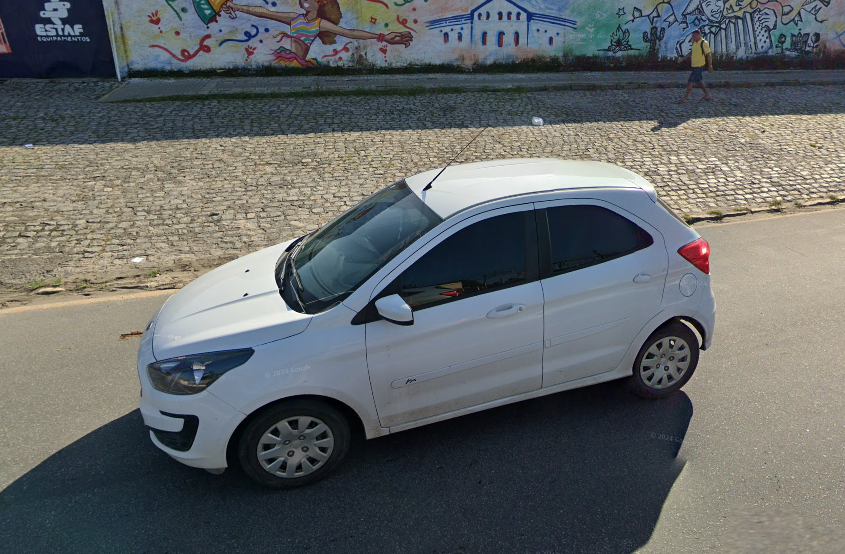car: (131, 127, 742, 493)
